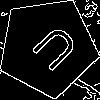U: (23, 22, 81, 81)
